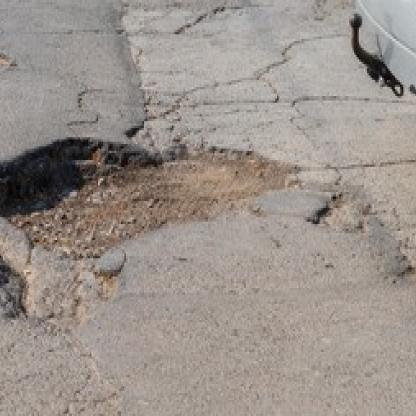pothole: (0, 137, 294, 256), (0, 254, 116, 327), (307, 190, 373, 236)
